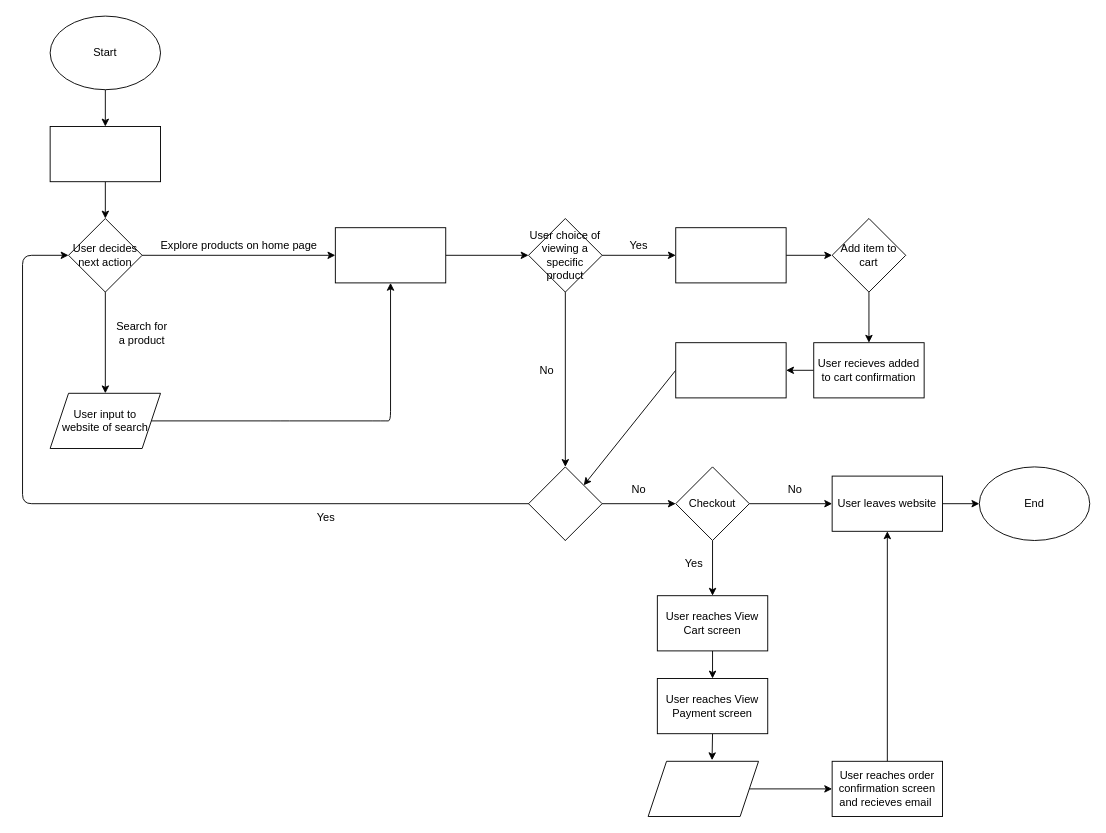
This 1106x833 diagram has some shape labels left out. The shapes that lost their labels are listed below. From the top down, each one's box as (x1, y1, x2, y2) in pixels, then its label:
(49, 126, 161, 182): User enters website
(334, 227, 446, 283): User begins looking over products
(675, 227, 786, 283): User views product's webpage
(675, 342, 786, 398): User exits product's webpage
(528, 466, 602, 540): User decides to continue shopping
(647, 760, 759, 816): User input of payment information
